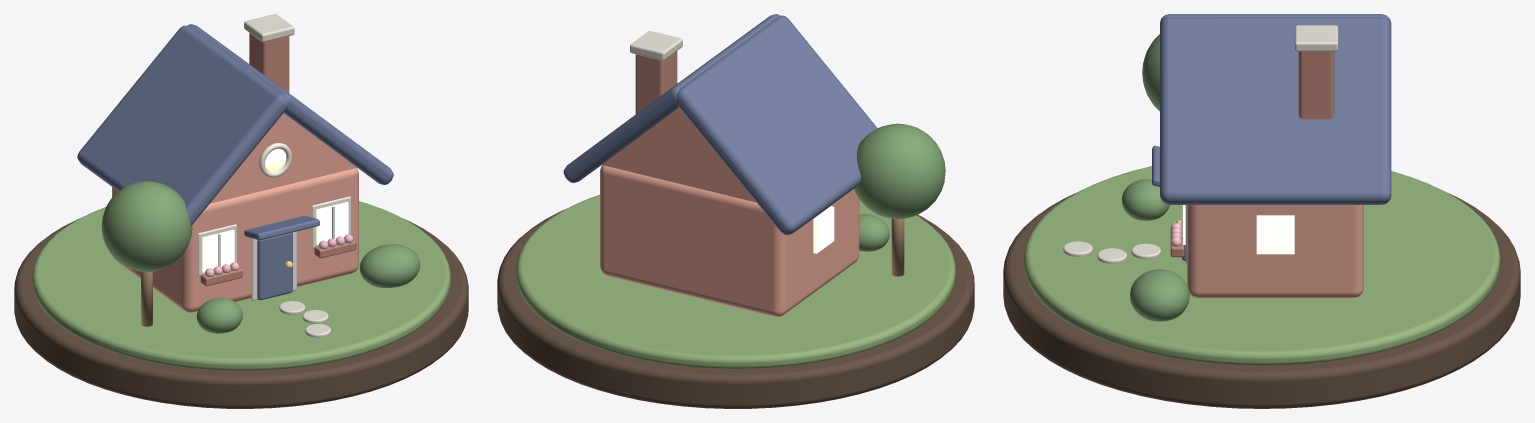
File: domis_house.glb
3 renders of one model, left to right at view 1: azimuth 30°, elevation 25°; view 2: azimuth 150°, elevation 25°; view 3: azimuth 270°, elevation 25°, orthographic. The views are drawn at different scales.
Visible parts, largest first — view 1: Lawn, Roof-1, Plinth, Body, Canopy, Gable, Roof1, Door, Bush1, Chimney, Bush2, Win-1 (+10 smaller); view 2: Lawn, Body, Roof-1, Plinth, Canopy, Gable, Roof1, Chimney, ChimneyCap, Bush2, SideWin-1, Trunk; view 3: Lawn, Roof1, Plinth, Body, Chimney, Bush1, SideWin1, Bush2, ChimneyCap, Canopy, Roof-1.
Boxes of the visible parts, x1,y1,x2,y2 form: Lawn: [32, 201, 450, 370]; Roof-1: [77, 25, 285, 225]; Plinth: [14, 218, 468, 408]; Body: [112, 168, 358, 312]; Canopy: [101, 181, 192, 271]; Gable: [210, 113, 356, 203]; Roof1: [187, 24, 393, 184]; Door: [257, 232, 292, 300]; Bush1: [359, 244, 420, 287]; Chimney: [249, 33, 289, 92]; Bush2: [196, 298, 242, 333]; Win-1: [202, 229, 234, 272]; Lawn: [516, 194, 955, 368]; Body: [600, 165, 859, 316]; Roof-1: [676, 15, 877, 234]; Plinth: [497, 209, 974, 408]; Canopy: [854, 123, 945, 218]; Gable: [602, 107, 756, 202]; Roof1: [563, 14, 780, 182]; Chimney: [635, 51, 677, 113]; ChimneyCap: [630, 31, 682, 60]; Bush2: [859, 214, 889, 251]; SideWin-1: [813, 206, 834, 253]; Trunk: [891, 218, 904, 276]; Lawn: [1023, 166, 1500, 365]; Roof1: [1160, 17, 1391, 204]; Plinth: [1003, 192, 1520, 408]; Body: [1187, 205, 1363, 298]; Chimney: [1298, 51, 1334, 119]; Bush1: [1130, 269, 1189, 321]; SideWin1: [1256, 215, 1294, 254]; Bush2: [1121, 179, 1169, 220]; ChimneyCap: [1294, 25, 1338, 51]; Canopy: [1142, 34, 1159, 111]; Roof-1: [1160, 14, 1391, 25].
Bounding box in the file's own units: 0.38 × 0.241 × 0.38.
